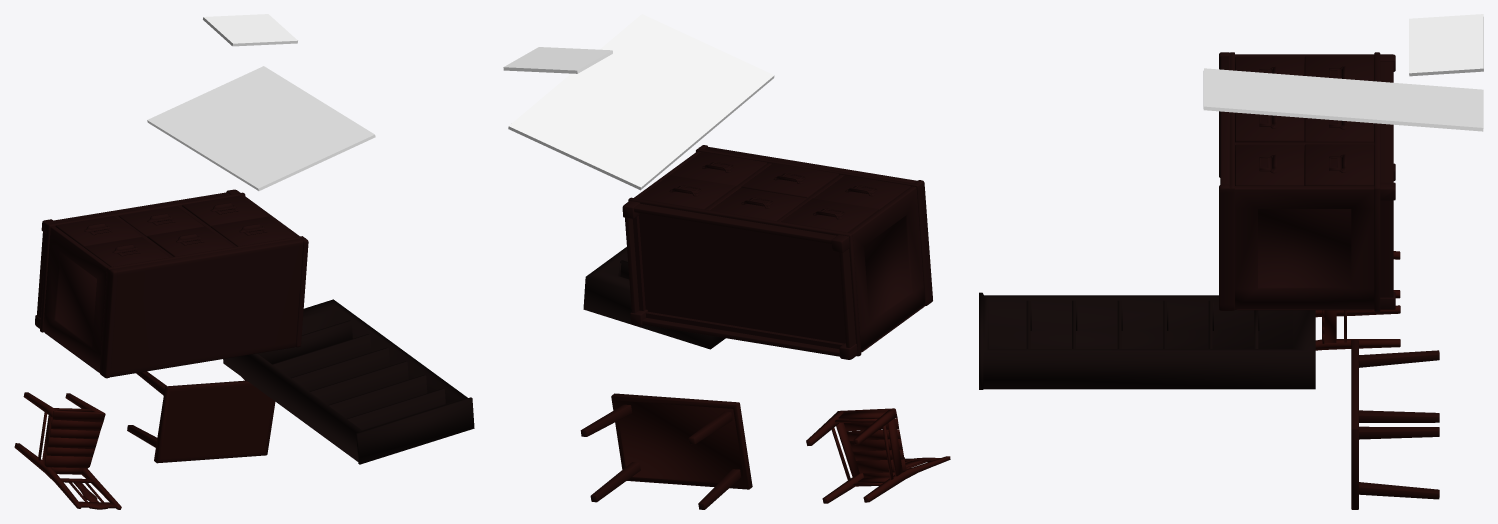
3 views of the same model, side by side, from view 1: azimuth 30°, elevation 25°; view 2: azimuth 150°, elevation 25°; view 3: azimuth 270°, elevation 25° (orthographic). The views are drawn at different scales.
Parts seen in each view (by area): view 1: diffuse_cabinet_01, diffuse_shelf_03, glass_door_01, diffuse_table_02, diffuse_chair_04, glass_partition_02; view 2: diffuse_cabinet_01, glass_door_01, diffuse_table_02, diffuse_chair_04, diffuse_shelf_03, glass_partition_02; view 3: diffuse_cabinet_01, diffuse_shelf_03, glass_door_01, diffuse_table_02, glass_partition_02, diffuse_chair_04.
Part boxes in pixels (<box>): diffuse_cabinet_01: <box>35,189,308,378</box>; diffuse_shelf_03: <box>223,299,474,464</box>; glass_door_01: <box>147,66,375,190</box>; diffuse_table_02: <box>127,371,275,463</box>; diffuse_chair_04: <box>14,392,121,509</box>; glass_partition_02: <box>203,14,297,46</box>; diffuse_cabinet_01: <box>622,145,932,359</box>; glass_door_01: <box>508,14,774,190</box>; diffuse_table_02: <box>580,393,752,509</box>; diffuse_chair_04: <box>806,408,950,503</box>; diffuse_shelf_03: <box>583,247,725,349</box>; glass_partition_02: <box>503,47,612,73</box>; diffuse_cabinet_01: <box>1219,52,1395,311</box>; diffuse_shelf_03: <box>979,292,1315,389</box>; glass_door_01: <box>1203,68,1483,131</box>; diffuse_table_02: <box>1351,340,1439,509</box>; glass_partition_02: <box>1409,14,1483,76</box>; diffuse_chair_04: <box>1315,251,1400,350</box>.
Size of the model in its own units: 221 by 289 by 270.
